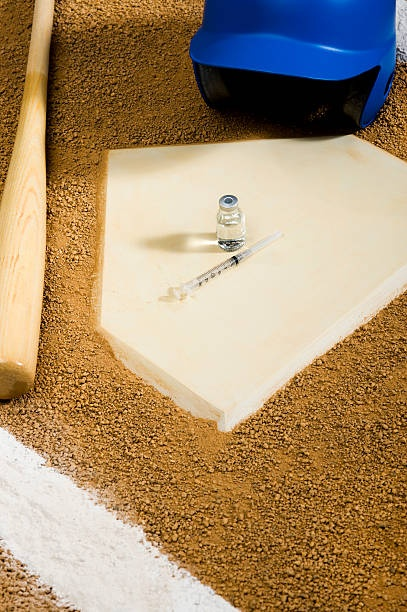bita: (1, 1, 49, 400)
